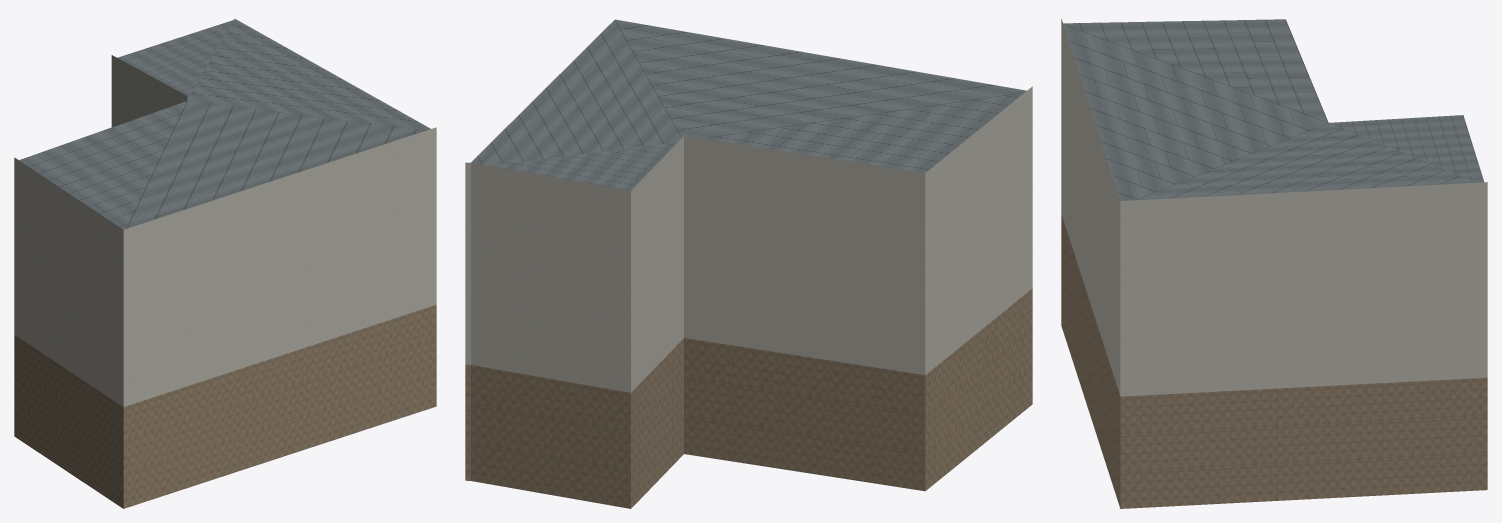
Rendered from bld_c3_19_460.gltf.
3 views of the same model, side by side, from view 1: azimuth 30°, elevation 25°; view 2: azimuth 150°, elevation 25°; view 3: azimuth 270°, elevation 25° (orthographic). The views are drawn at different scales.
Visible parts, largest first — view 1: bld_c3_19_460; view 2: bld_c3_19_460; view 3: bld_c3_19_460.
Part boxes in pixels (left/top/right/bottom): bld_c3_19_460: left=14, top=19, right=436, bottom=508; bld_c3_19_460: left=465, top=19, right=1032, bottom=508; bld_c3_19_460: left=1061, top=18, right=1487, bottom=508.
Bounding box in the file's own units: 18.21 × 13.98 × 17.53.
4 materials, 4 textured.
